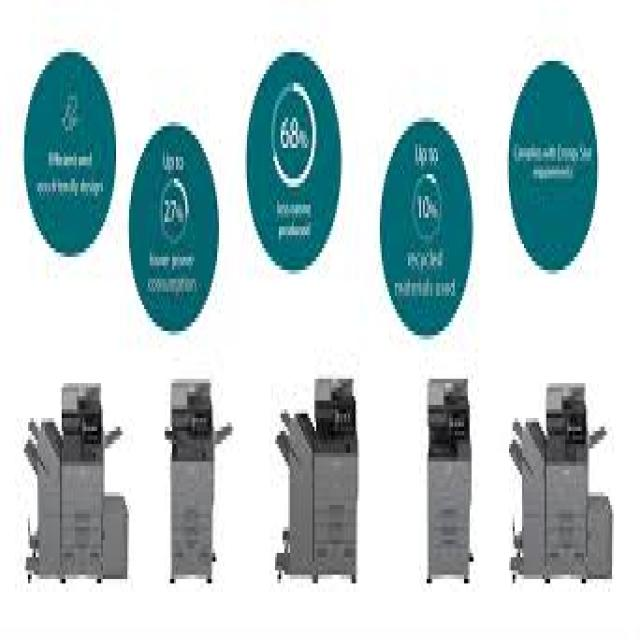printer: (23, 379, 129, 583), (507, 379, 612, 583), (274, 374, 358, 584), (163, 374, 232, 584), (425, 374, 473, 584)
